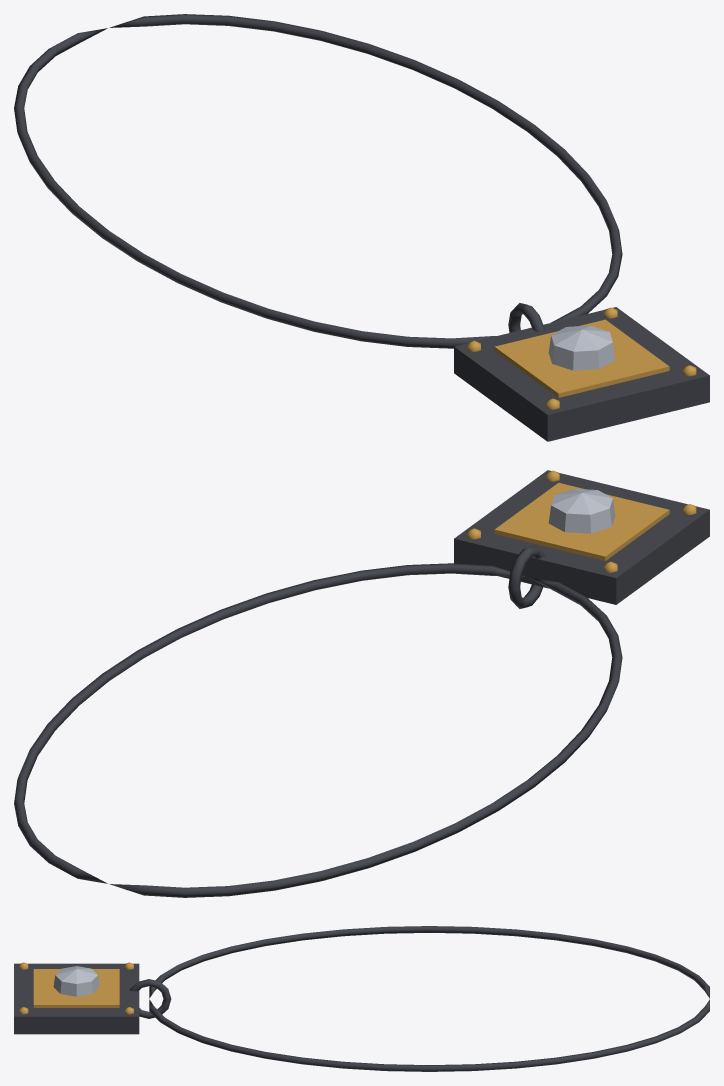
The model's file is amulet_strength.glb.
3 views of the same model, one above another, from view 1: azimuth 30°, elevation 25°; view 2: azimuth 150°, elevation 25°; view 3: azimuth 270°, elevation 25° (orthographic). The views are drawn at different scales.
Visible parts, largest first — view 1: Amulet_Strength_Darksteel, Amulet_Strength_Brass, Amulet_Strength_Steel; view 2: Amulet_Strength_Darksteel, Amulet_Strength_Brass, Amulet_Strength_Steel; view 3: Amulet_Strength_Darksteel, Amulet_Strength_Brass, Amulet_Strength_Steel.
Boxes of the visible parts, <box> form: Amulet_Strength_Darksteel: <box>14,14,709,441</box>; Amulet_Strength_Brass: <box>467,307,696,409</box>; Amulet_Strength_Steel: <box>548,325,615,370</box>; Amulet_Strength_Darksteel: <box>14,470,709,897</box>; Amulet_Strength_Brass: <box>467,470,696,572</box>; Amulet_Strength_Steel: <box>548,488,615,533</box>; Amulet_Strength_Darksteel: <box>14,926,709,1071</box>; Amulet_Strength_Brass: <box>19,962,133,1014</box>; Amulet_Strength_Steel: <box>53,966,99,996</box>.
Bounding box in the file's own units: 0.1021 × 0.0167 × 0.211.
